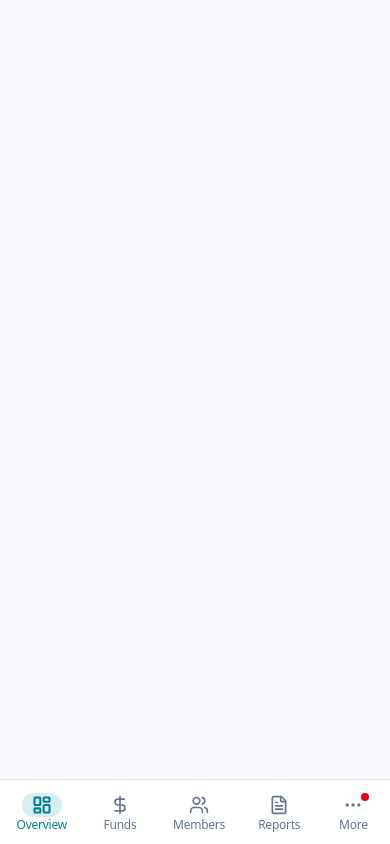
Scenario: AdminBottomNav › badges Receipts with pending void requests for treasurers/admins
Click the button "More".
click(353, 812)  # box [325,787,381,837]
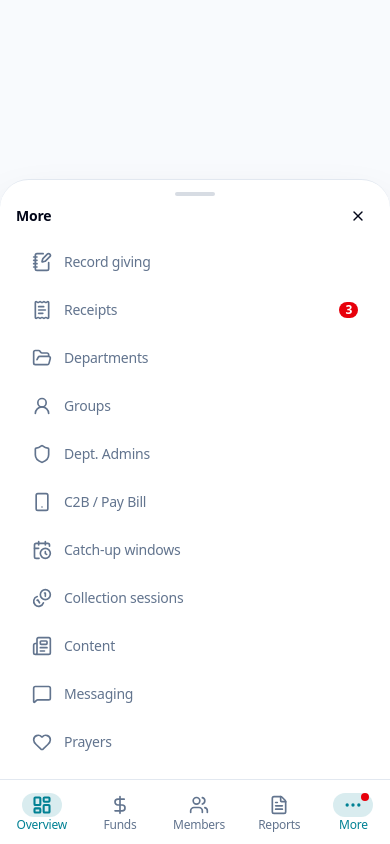
expect the text named "3 pending void requests" reads "3": met, box [345,301,352,318]
